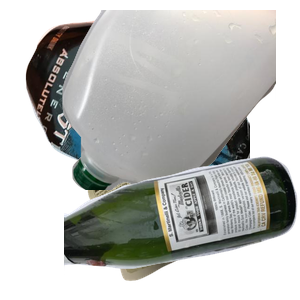glass: (64, 154, 300, 300)
metal: (23, 15, 263, 195)
plastic: (60, 10, 300, 190)
trash: (84, 126, 291, 300)
